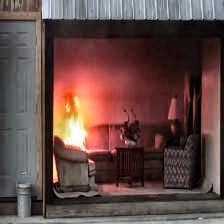fire: (54, 89, 88, 146)
